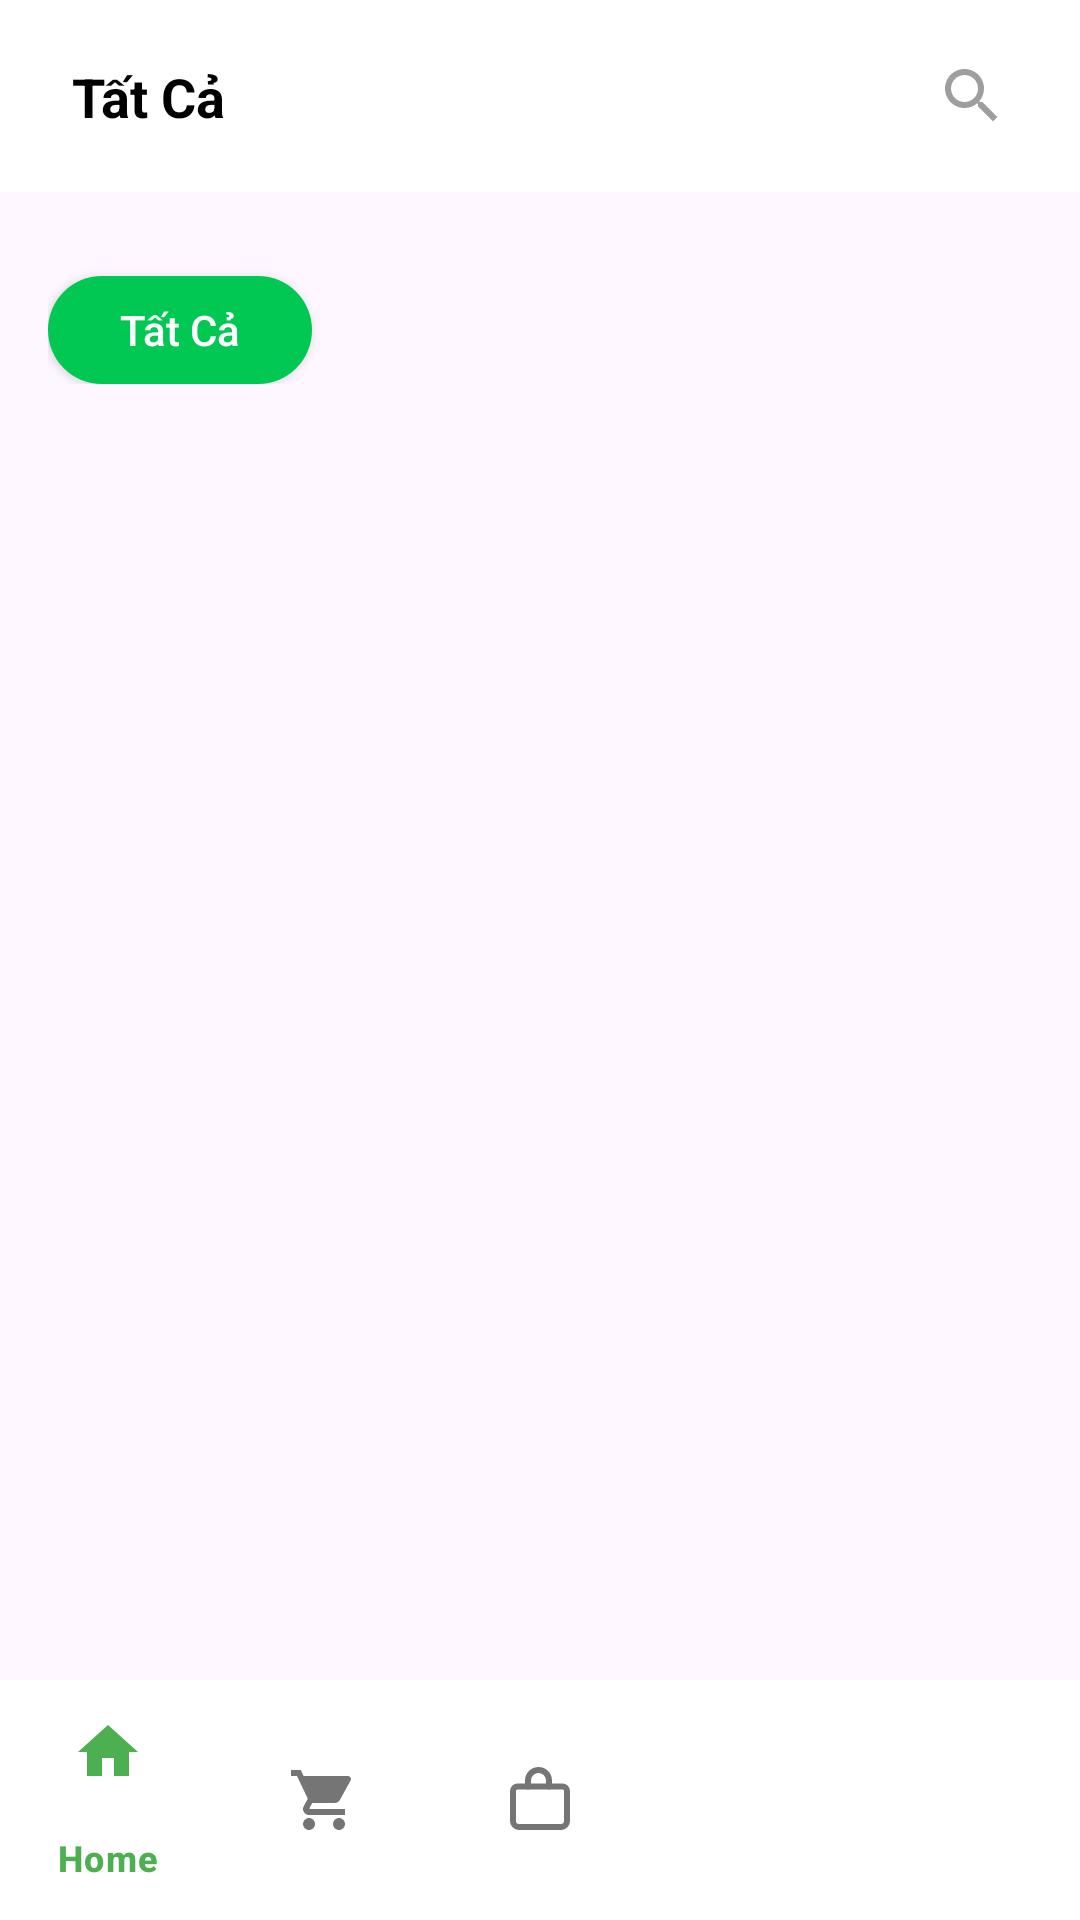

Locate icon controls on the screen. Image size 1080w x 1920h, boxes as (x1, y1, x2, y2).
search: (945, 69, 997, 121)
